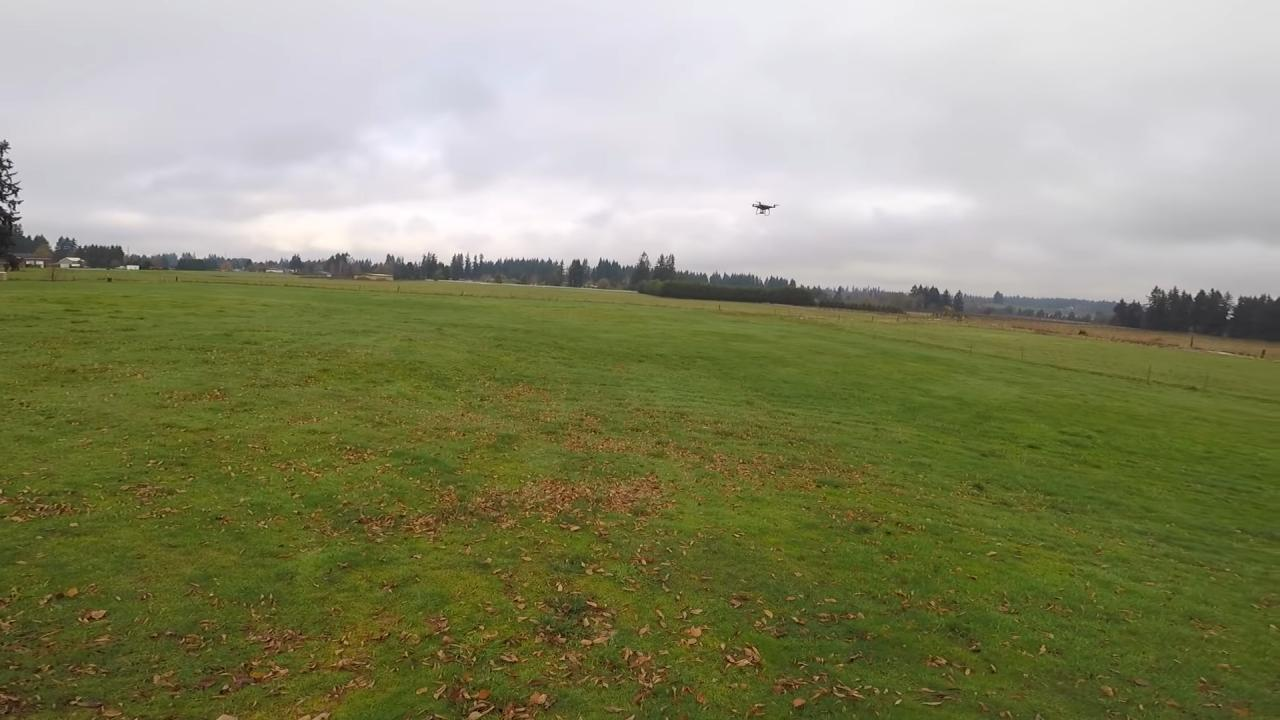Drone: (744, 195, 785, 226)
